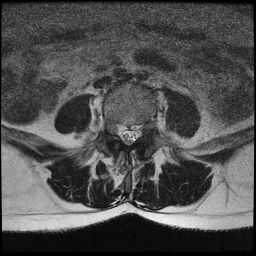CCS_normal: (125, 119, 132, 150)
LFS_normal: (140, 114, 148, 143)
LLS_normal: (132, 118, 139, 147)
RFS_normal: (112, 114, 119, 141)
RLS_normal: (119, 117, 125, 146)
